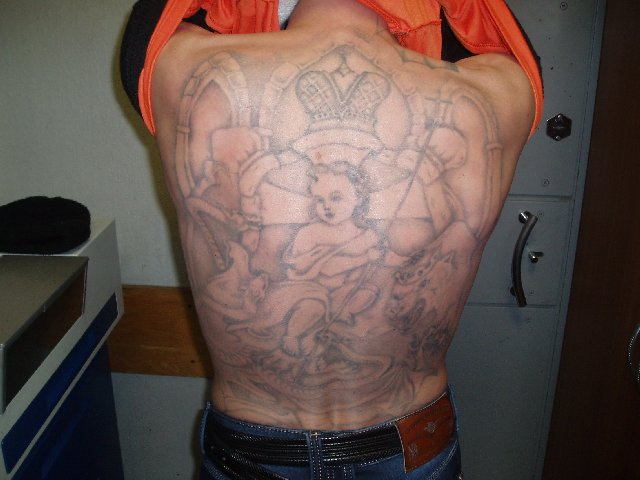tatu1_angel: (283, 133, 398, 333)
